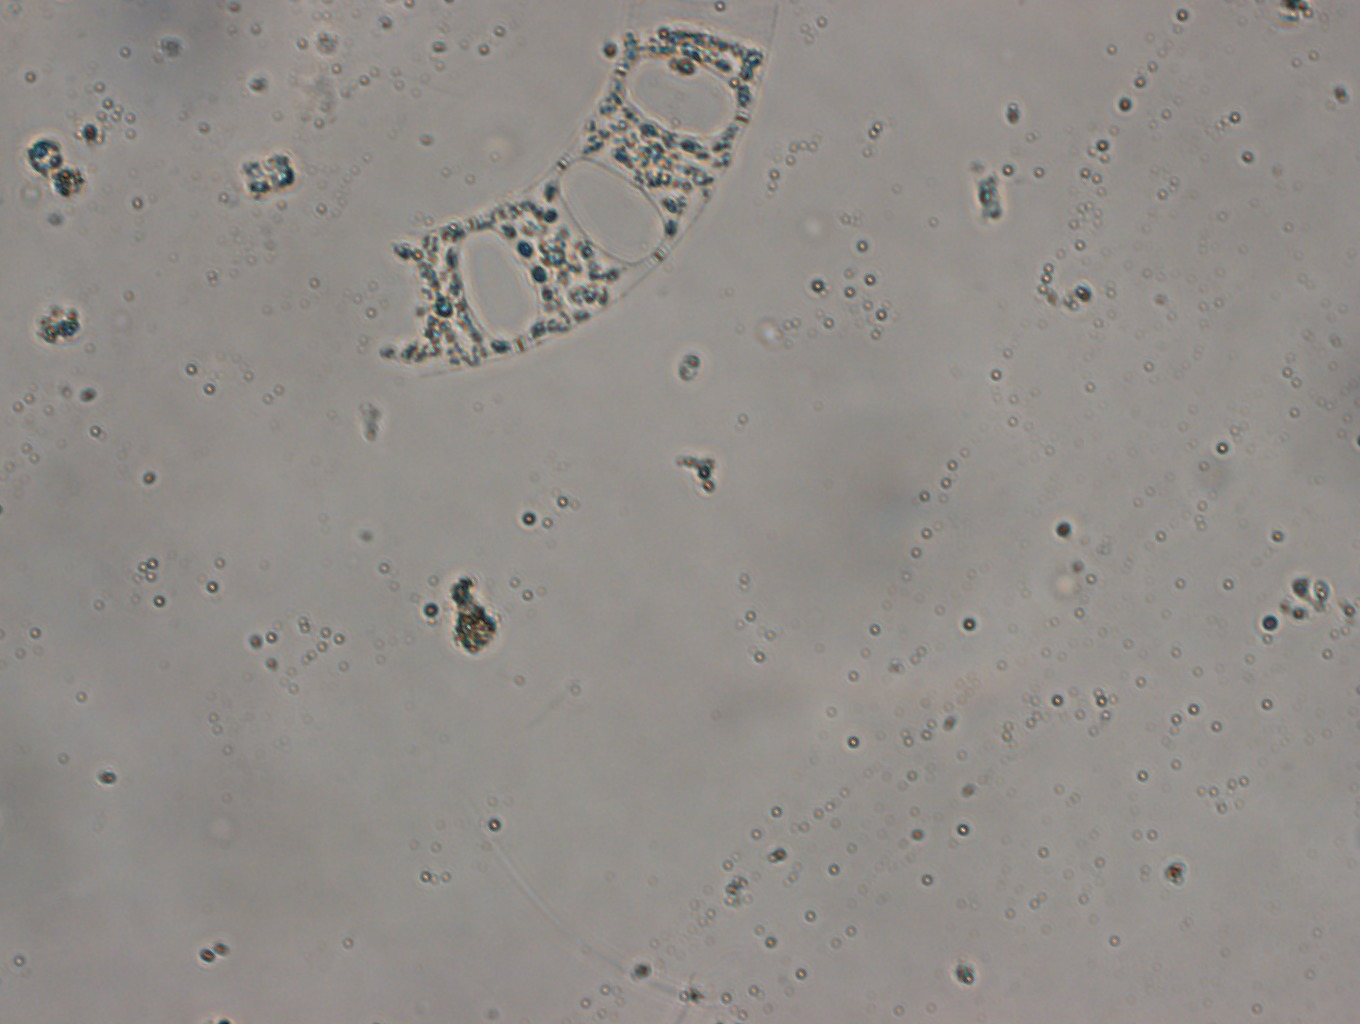eucampia: (366, 1, 783, 384)
